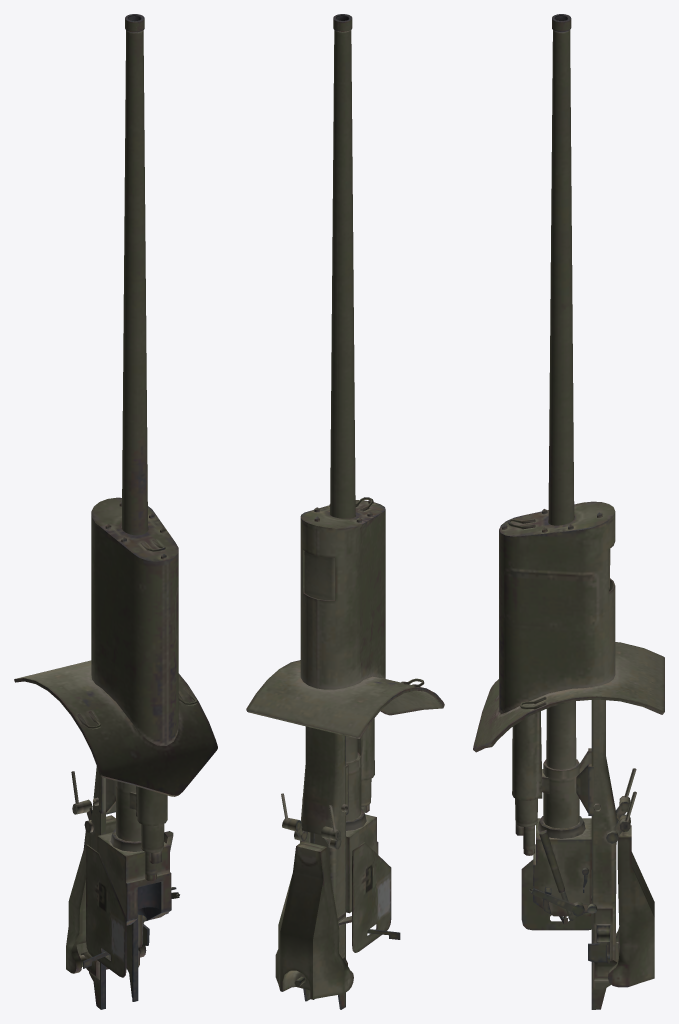
File: Gun_04.glb
3 renders of one model, left to right at view 1: azimuth 30°, elevation 25°; view 2: azimuth 150°, elevation 25°; view 3: azimuth 270°, elevation 25°, orthographic. The views are drawn at different scales.
Visible parts, largest first — view 1: set_0_group_0; view 2: set_0_group_0; view 3: set_0_group_0.
Part boxes in pixels (x1,y1,x2,y2): set_0_group_0: (14, 14, 217, 1009); set_0_group_0: (246, 14, 444, 1009); set_0_group_0: (473, 14, 664, 1009).
Size of the model in its own units: 0.5839 by 4.79 by 0.8471.
1 material, 1 textured.
